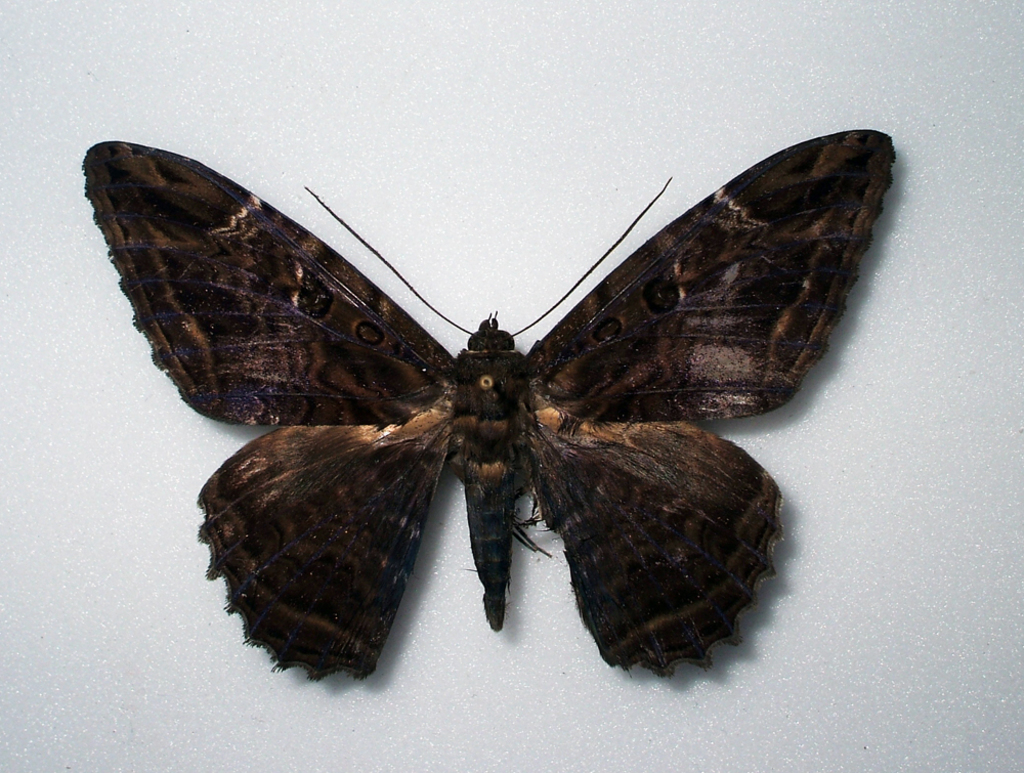Butterfly: (66, 84, 909, 697)
